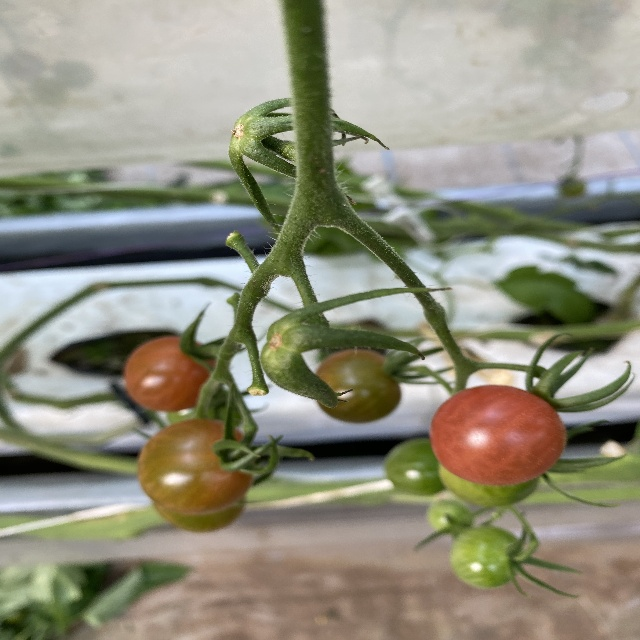l_fully_ripened: (429, 385, 567, 485)
l_green: (316, 350, 400, 424), (438, 463, 539, 508), (450, 526, 523, 587)
l_half_ripened: (138, 419, 252, 531), (126, 336, 215, 411)
